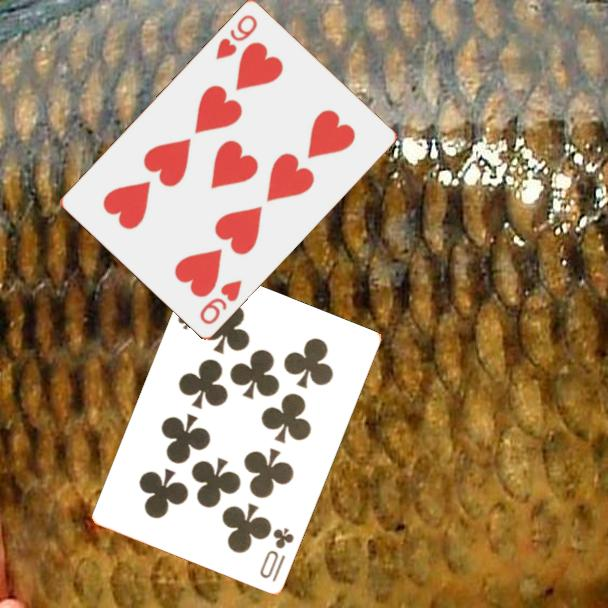c10: (256, 524, 297, 585)
h09: (196, 276, 245, 327), (212, 11, 260, 62)
